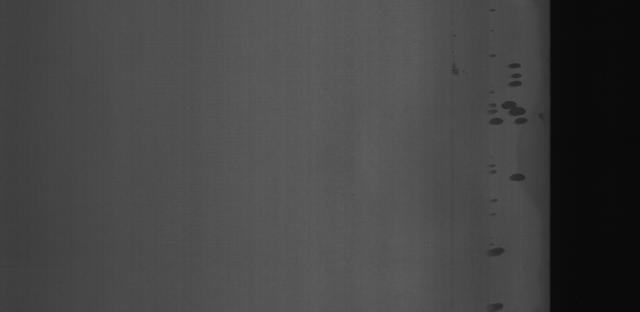oil_spot: (484, 90, 540, 131), (479, 154, 503, 218), (502, 53, 523, 91), (483, 244, 507, 264), (508, 172, 526, 188), (483, 296, 503, 310)
